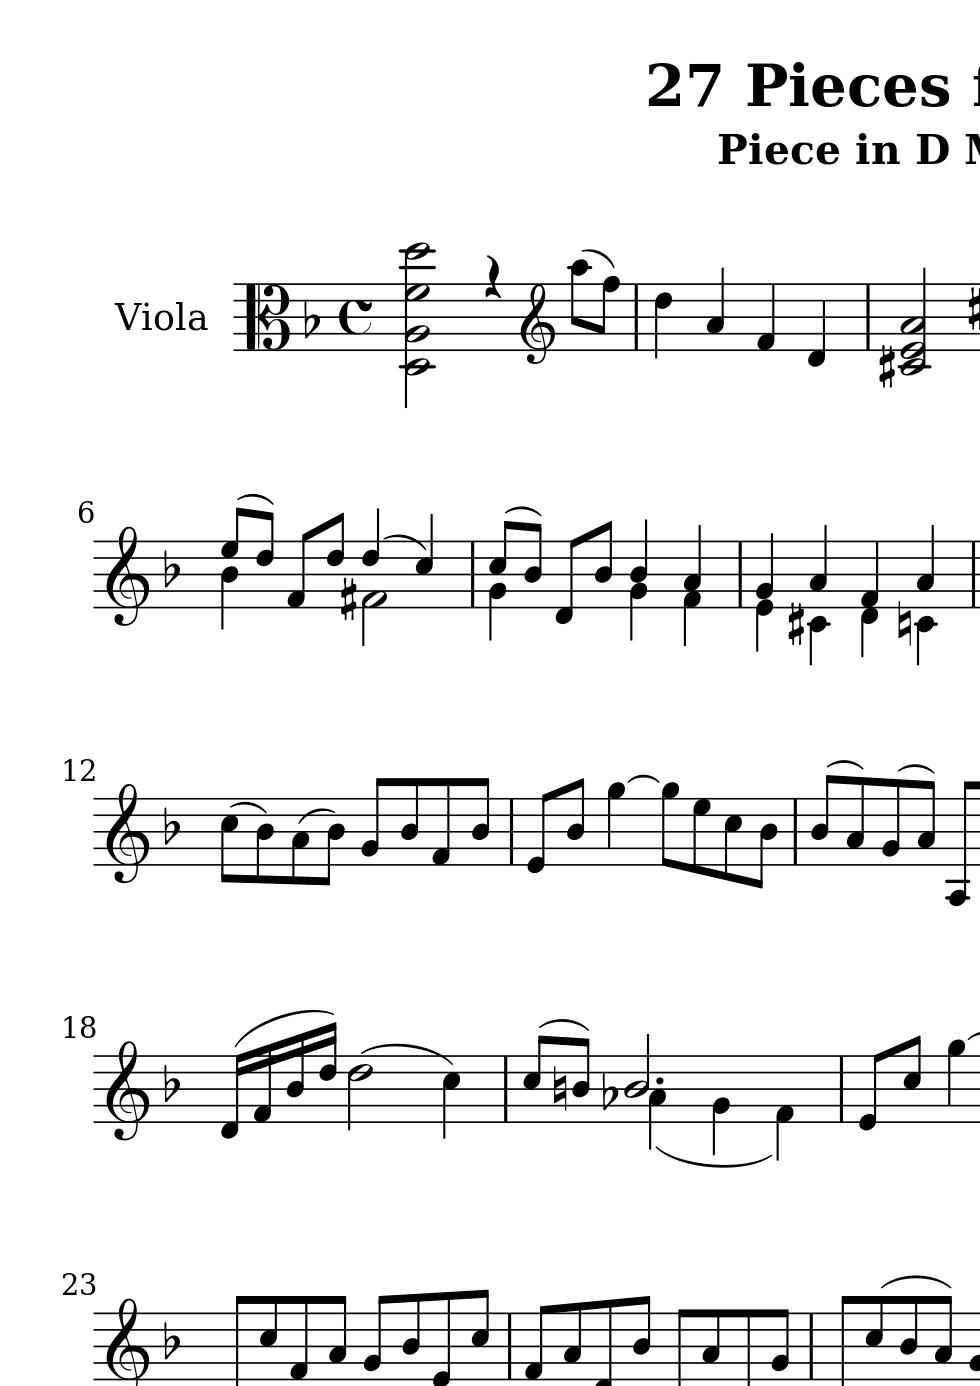1: (62, 1013, 76, 1041), (62, 757, 76, 785)
16_-1: (217, 1050, 248, 1140)
16_1: (250, 1042, 274, 1125)
16_4: (283, 1031, 307, 1125)
16_6: (317, 1020, 338, 1127)
2: (77, 757, 97, 785), (60, 1271, 78, 1298)
2_4: (622, 1032, 649, 1123)
2_4th: (395, 238, 439, 409)
2_6: (345, 1053, 372, 1133)
3: (78, 1271, 97, 1298)
4_-1: (804, 281, 827, 369)
4_-1_1: (859, 539, 881, 656)
4_0_2: (754, 533, 775, 656)
4_1: (774, 1053, 794, 1161), (754, 282, 777, 354)
4_1_3: (682, 525, 702, 647)
4_2: (710, 1053, 731, 1156)
4_2_4: (629, 519, 650, 642)
4_3: (807, 522, 830, 610), (704, 265, 727, 352), (914, 524, 935, 610)
4_5: (413, 511, 435, 609), (439, 1053, 462, 1140)
4_6: (652, 282, 673, 361)
4_9: (603, 782, 627, 867), (945, 1038, 967, 1125)
6: (76, 498, 95, 525)
8: (78, 1013, 97, 1041)
8_-1: (552, 532, 583, 625)
8_-4: (943, 778, 976, 907)
8_0: (524, 790, 554, 877), (856, 1049, 886, 1133), (428, 1289, 453, 1386)
8_1: (286, 526, 316, 611), (427, 774, 453, 867), (522, 1302, 549, 1381), (286, 1293, 310, 1383)
8_10: (566, 258, 589, 353)
8_2: (356, 775, 388, 866), (358, 1294, 388, 1382), (878, 777, 902, 869), (767, 1308, 790, 1383)
8_3: (843, 776, 867, 869), (560, 1300, 584, 1382), (287, 796, 310, 885), (326, 1294, 348, 1382), (932, 1294, 953, 1383), (698, 1308, 722, 1382), (915, 780, 935, 869)
8_4: (808, 773, 838, 869), (318, 796, 348, 889), (750, 796, 778, 892), (396, 775, 422, 866), (467, 775, 492, 867), (398, 1291, 422, 1381), (592, 519, 615, 612), (629, 1294, 653, 1382), (563, 777, 587, 869), (896, 1294, 920, 1382), (252, 796, 274, 885), (570, 1036, 591, 1125), (521, 523, 542, 611)
8_5: (519, 1034, 548, 1124), (467, 1287, 490, 1381), (216, 795, 239, 884), (257, 1293, 279, 1381), (863, 1293, 886, 1381), (720, 796, 742, 883), (900, 1034, 922, 1125)
8_6: (252, 510, 276, 612), (323, 511, 346, 615)
8_7: (689, 796, 710, 876)
8_8: (595, 274, 622, 352)
8_9: (659, 782, 680, 872)
Cclef: (243, 282, 291, 351)
Fclef: (103, 780, 150, 883)
Flat: (599, 1068, 619, 1111), (301, 299, 321, 340), (161, 1063, 181, 1102), (161, 548, 180, 587), (160, 806, 179, 844), (161, 1319, 179, 1359)
Gclef: (104, 1038, 148, 1141), (105, 523, 147, 627), (104, 1295, 148, 1386), (519, 282, 554, 365)
Natural: (894, 599, 912, 651), (550, 1064, 568, 1115)
Rests4: (480, 252, 504, 301)
Sharp: (785, 598, 806, 648), (336, 574, 357, 621), (961, 280, 980, 332), (877, 341, 896, 390)
Single_barline: (501, 1313, 519, 1380), (731, 541, 748, 606), (465, 542, 482, 607), (497, 1056, 514, 1121), (860, 284, 876, 351), (504, 799, 520, 865), (803, 1313, 819, 1380), (628, 284, 644, 347), (787, 799, 802, 864), (834, 1056, 848, 1122), (965, 541, 979, 607)
Slur: (234, 1007, 334, 1045), (654, 1144, 765, 1169), (362, 1043, 454, 1067), (879, 1274, 951, 1289), (537, 1015, 591, 1033), (384, 533, 425, 552), (582, 248, 615, 270), (227, 799, 269, 815), (295, 807, 336, 824), (237, 491, 274, 507), (896, 764, 935, 776), (506, 504, 539, 517), (826, 758, 864, 770), (627, 773, 659, 785)
TimeSig: (334, 282, 377, 353), (338, 283, 373, 354)
Vla: (113, 298, 206, 335)
dot: (651, 1074, 665, 1086)
